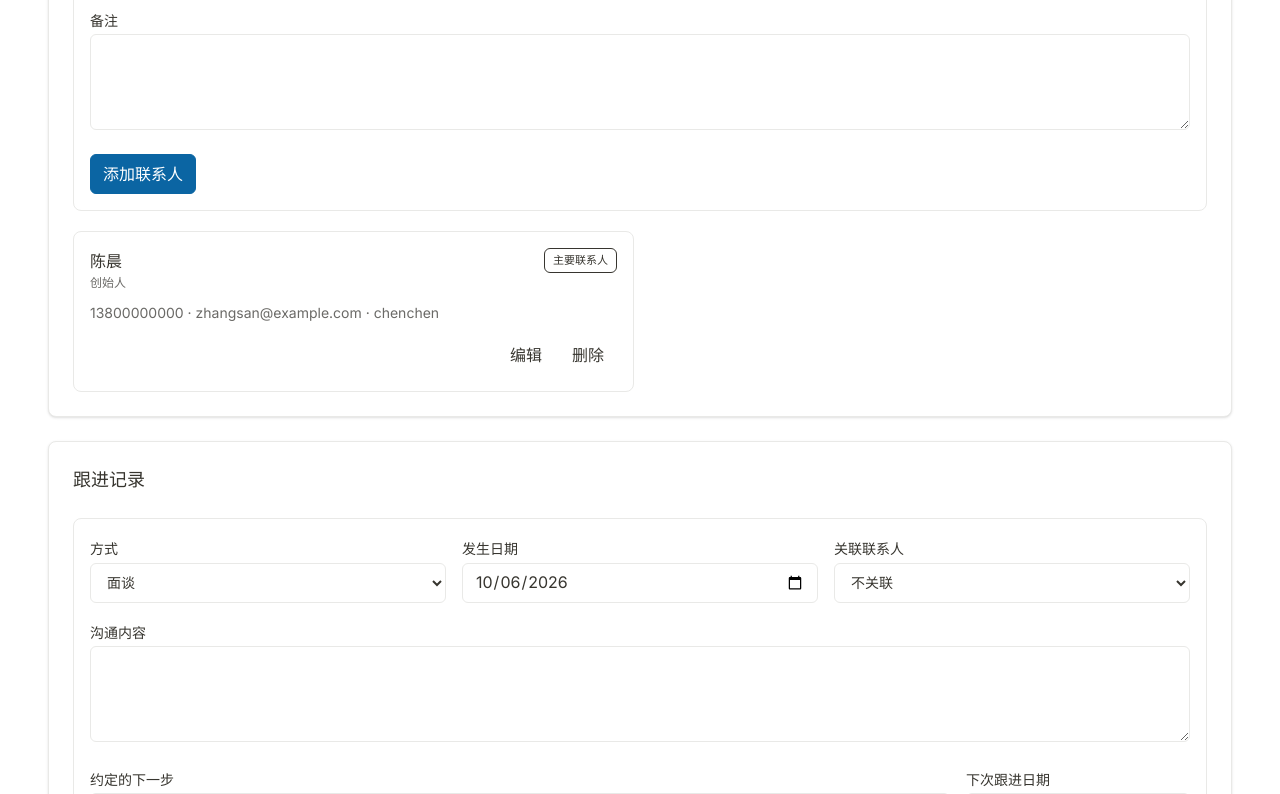
CustomerDetailPage › 支持编辑联系人，并在确认后删除跟进
(page scrolled)
Click the button "编辑" at (526, 355), box x1=497 y1=335 x2=555 y2=375
(page scrolled)
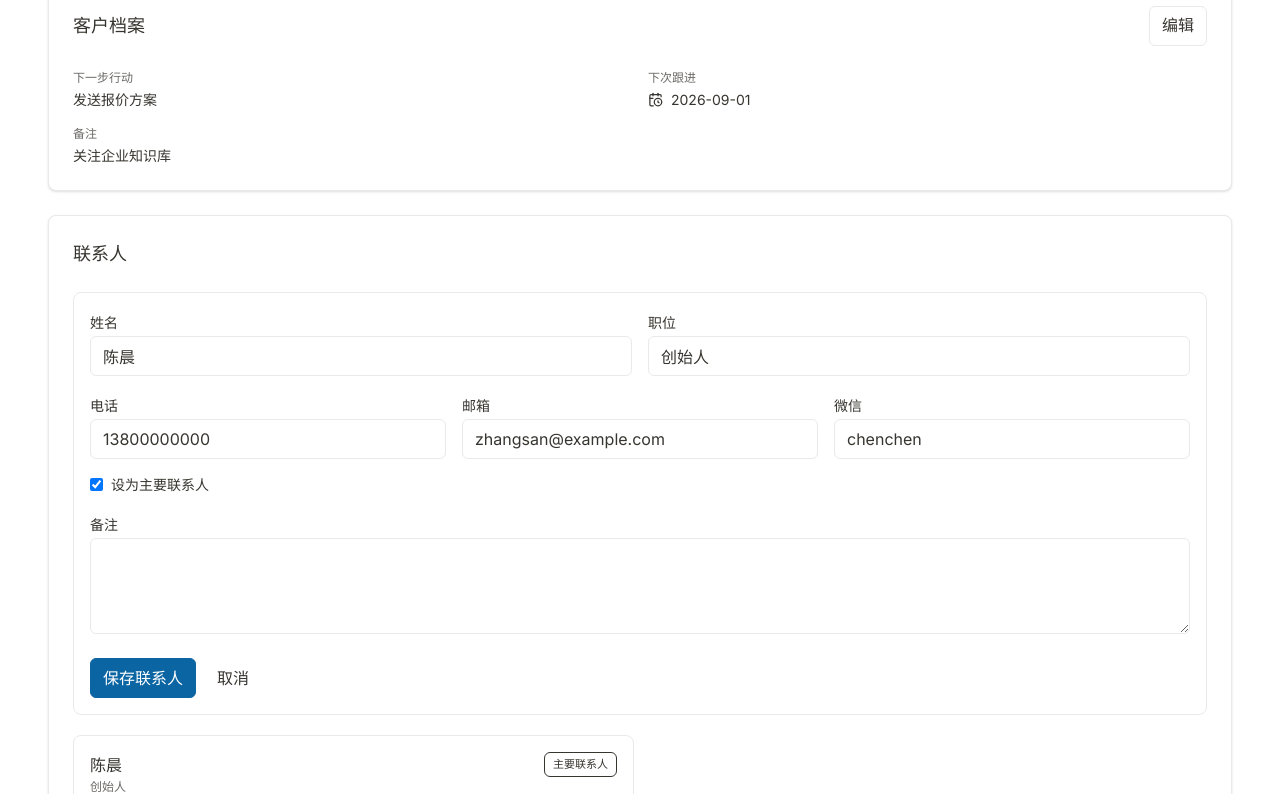
Replace the text in the field labelled "姓名" with "陈晨（更新）" at (361, 356), box x1=90 y1=336 x2=632 y2=376
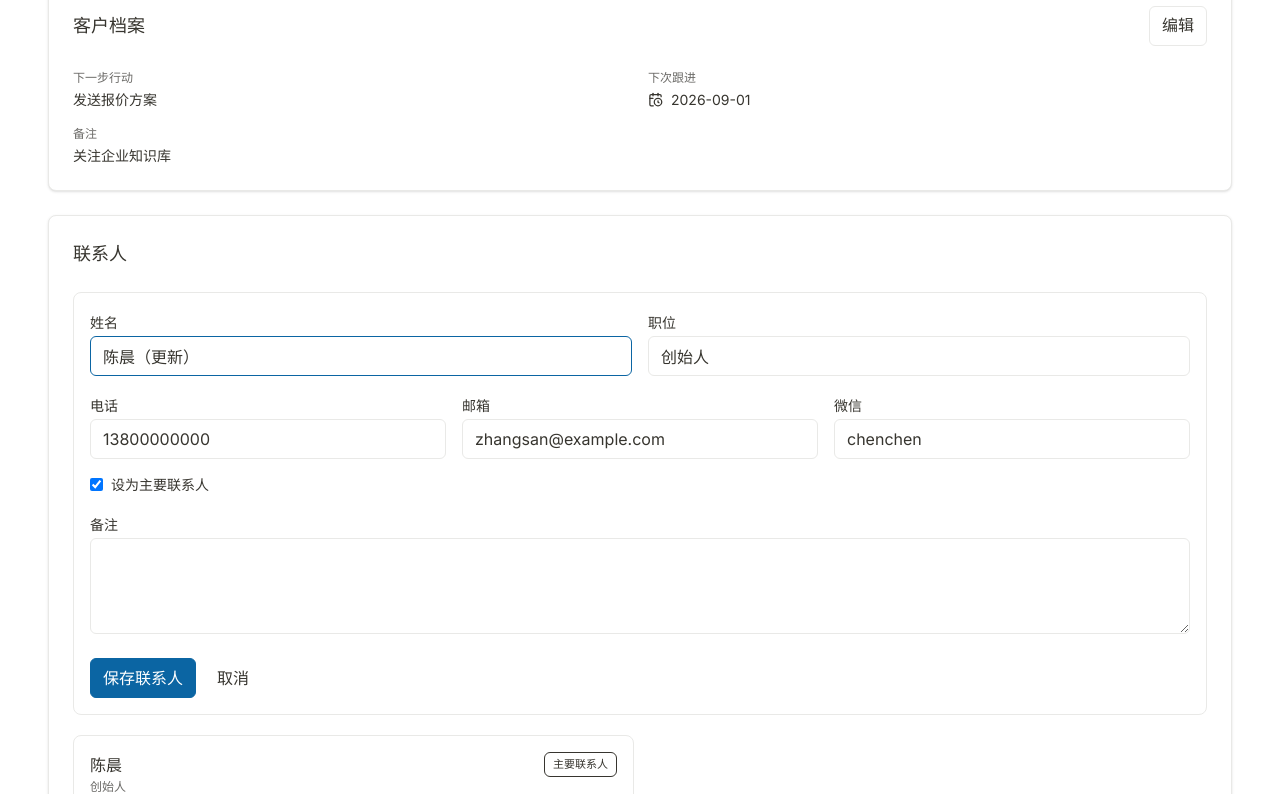
Click the button "保存联系人" at (143, 678), box x1=90 y1=658 x2=196 y2=698
(page scrolled)
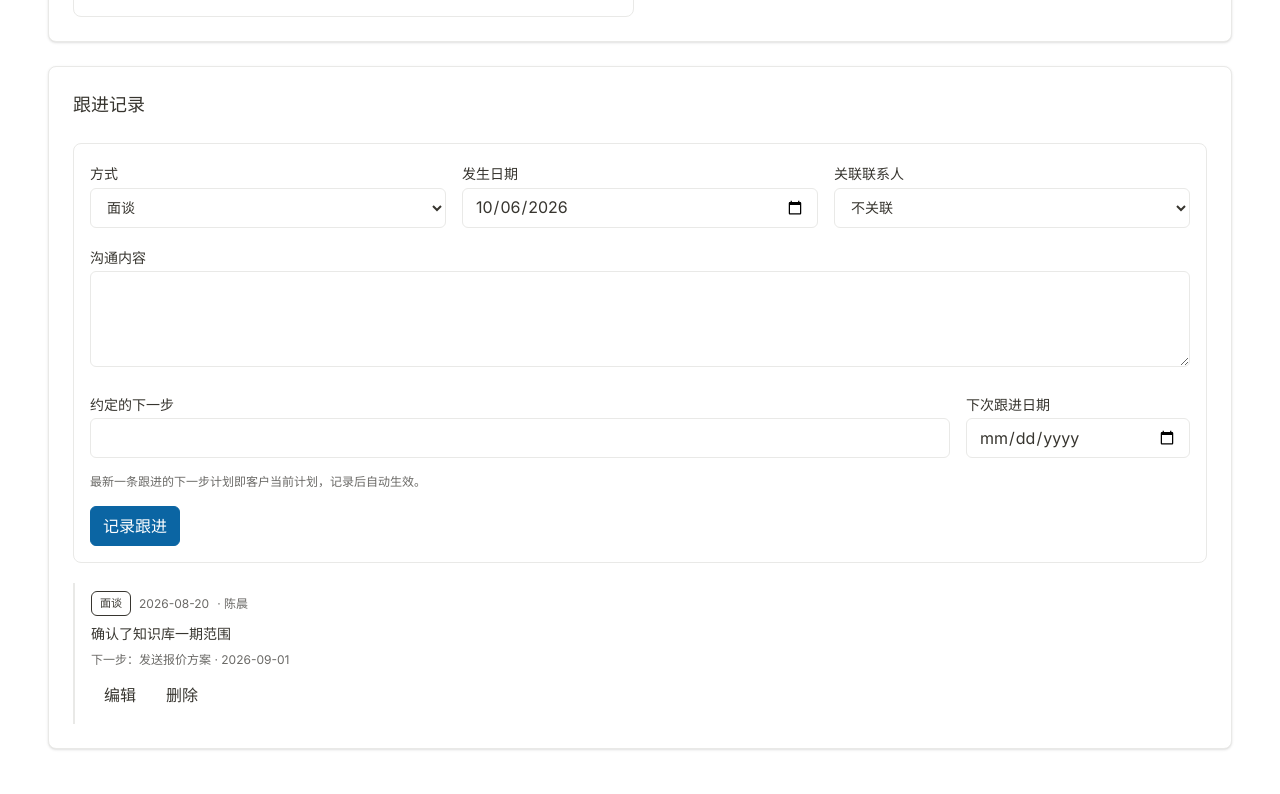
Click the button "删除" below "下一步：" at (182, 696), box x1=153 y1=676 x2=211 y2=716
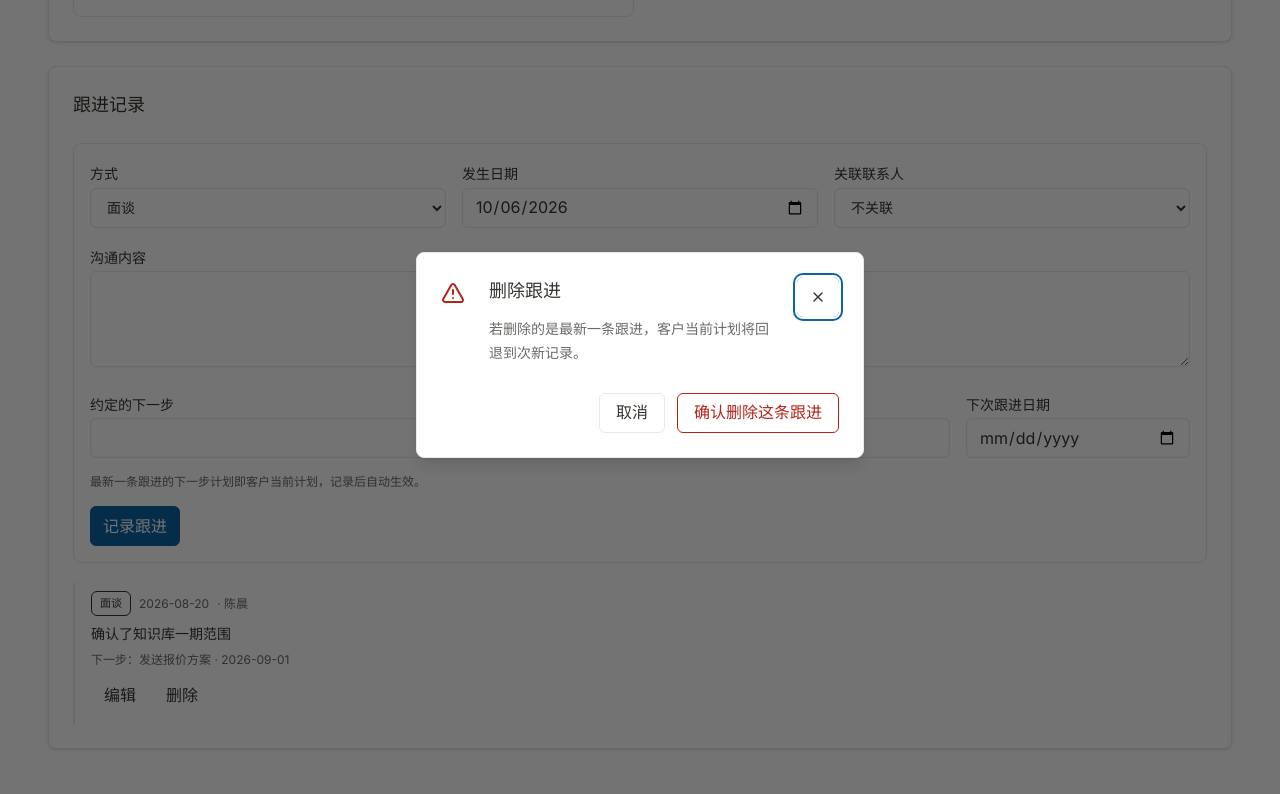
Now the dialog shows "客户当前计划将回退到次新记录", box x1=489 y1=320 x2=769 y2=361
Click the button "确认删除这条跟进" at (758, 413), box x1=677 y1=393 x2=839 y2=433
(page scrolled)
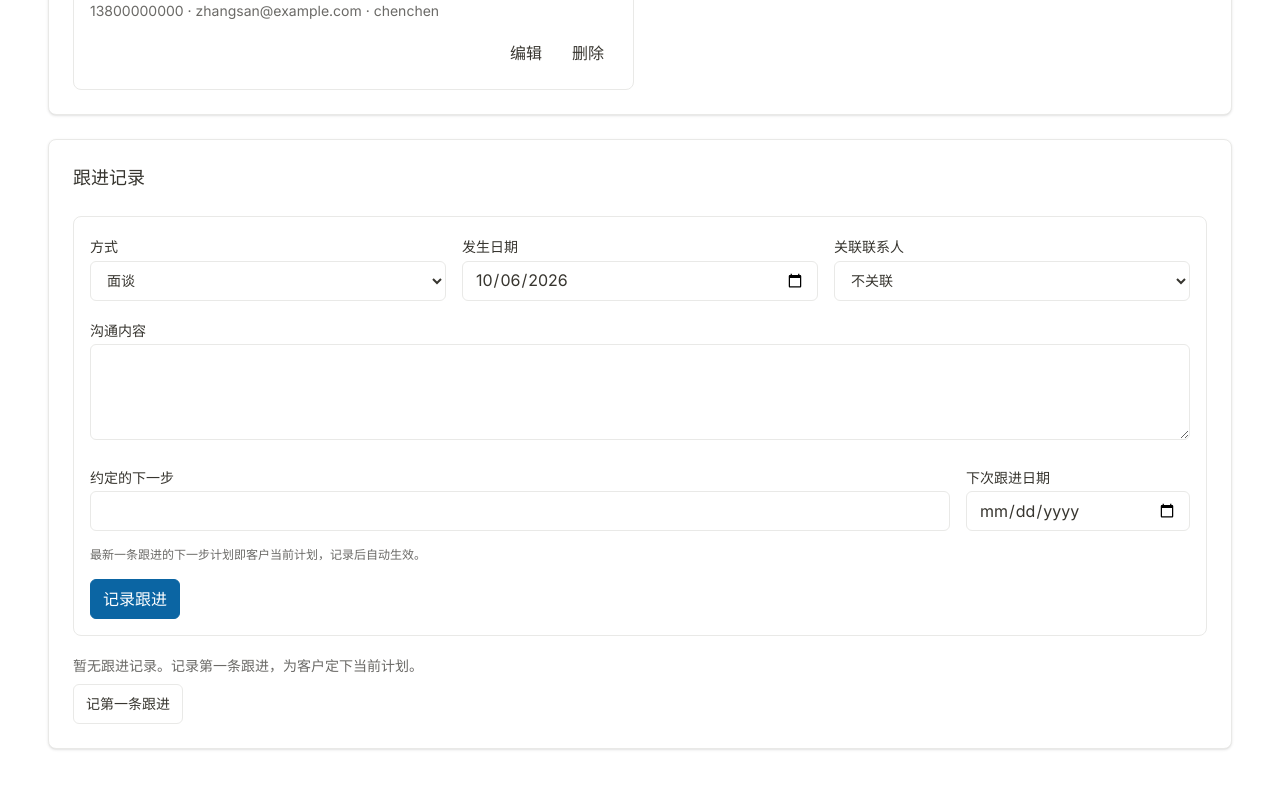
Now the text "暂无跟进记录。记录第一条跟进，为客户定下当前计划。" is shown, box x1=73 y1=656 x2=423 y2=676
